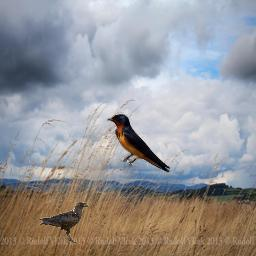Crow: (39, 202, 89, 243)
Swallow: (106, 114, 170, 173)
